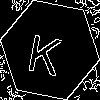K: (25, 25, 65, 76)
